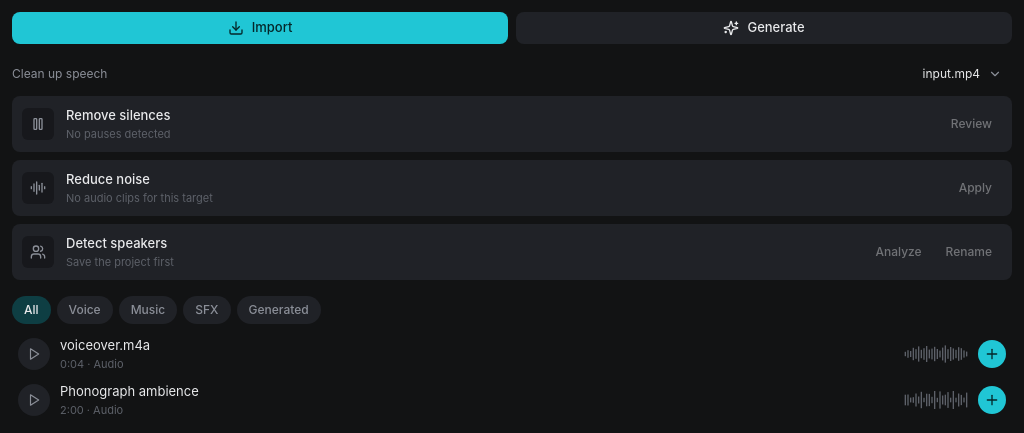
Test: AudioPanel › audio list › filters rows by chip and shows duration and kind
Expected: the text "2:00 · Audio" is shown, left=60, top=402, right=123, bottom=416
Step 1. Click the button "Voice" → click(85, 310), box left=57, top=296, right=113, bottom=324
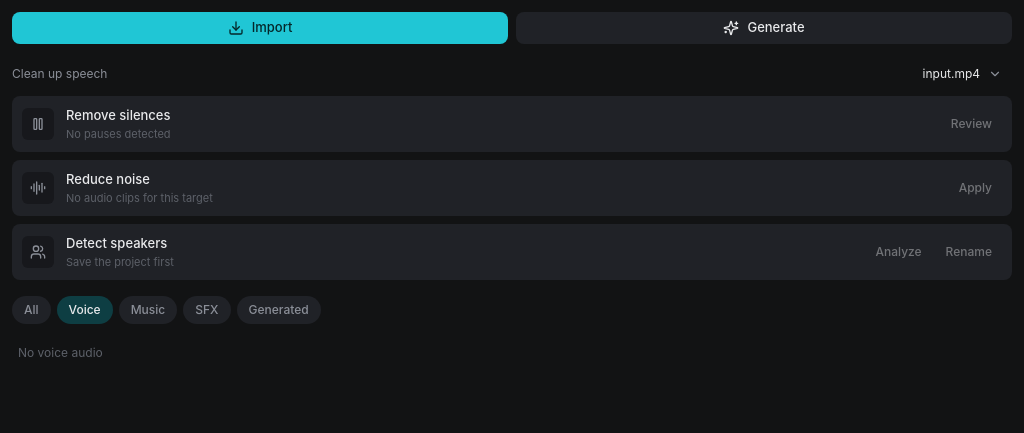
Result: the text "No voice audio" is shown at left=18, top=345, right=103, bottom=360
